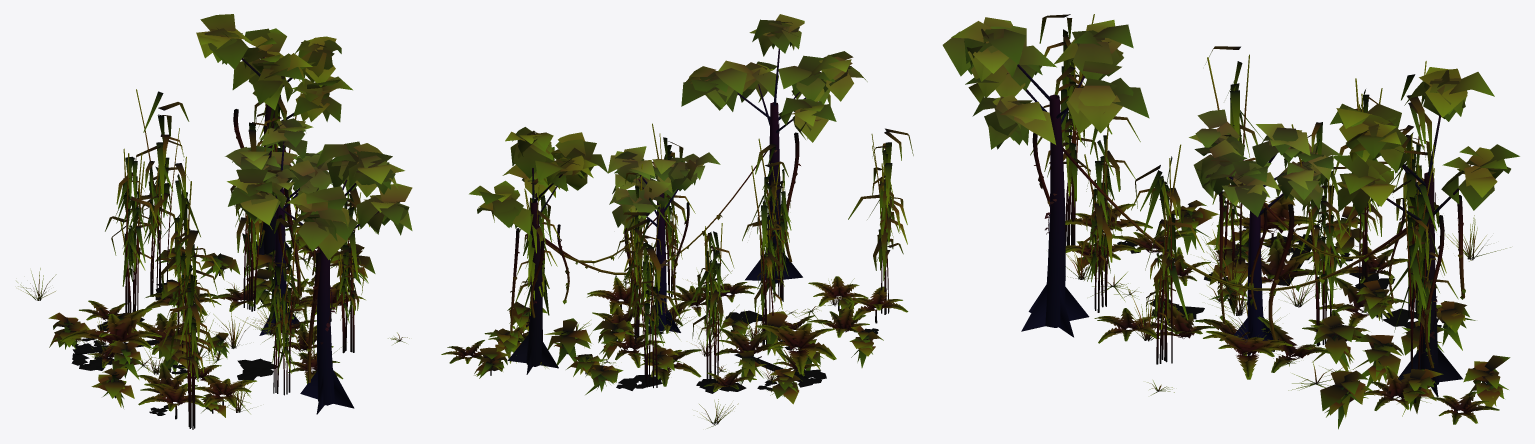
The model's file is patch_grove.glb.
The picture shows the model from 3 angles, left to right: view 1: azimuth 30°, elevation 25°; view 2: azimuth 150°, elevation 25°; view 3: azimuth 270°, elevation 25°; orthographic projection. The views are drawn at different scales.
Parts seen in each view (by area): view 1: patch_grove; view 2: patch_grove; view 3: patch_grove.
Boxes of the visible parts, x1,y1,x2,y2 form: patch_grove: (16, 14, 412, 429); patch_grove: (441, 14, 913, 428); patch_grove: (942, 14, 1519, 429).
Bounding box in the file's own units: 16.5 × 11.96 × 19.62.
1 material, 1 textured.
